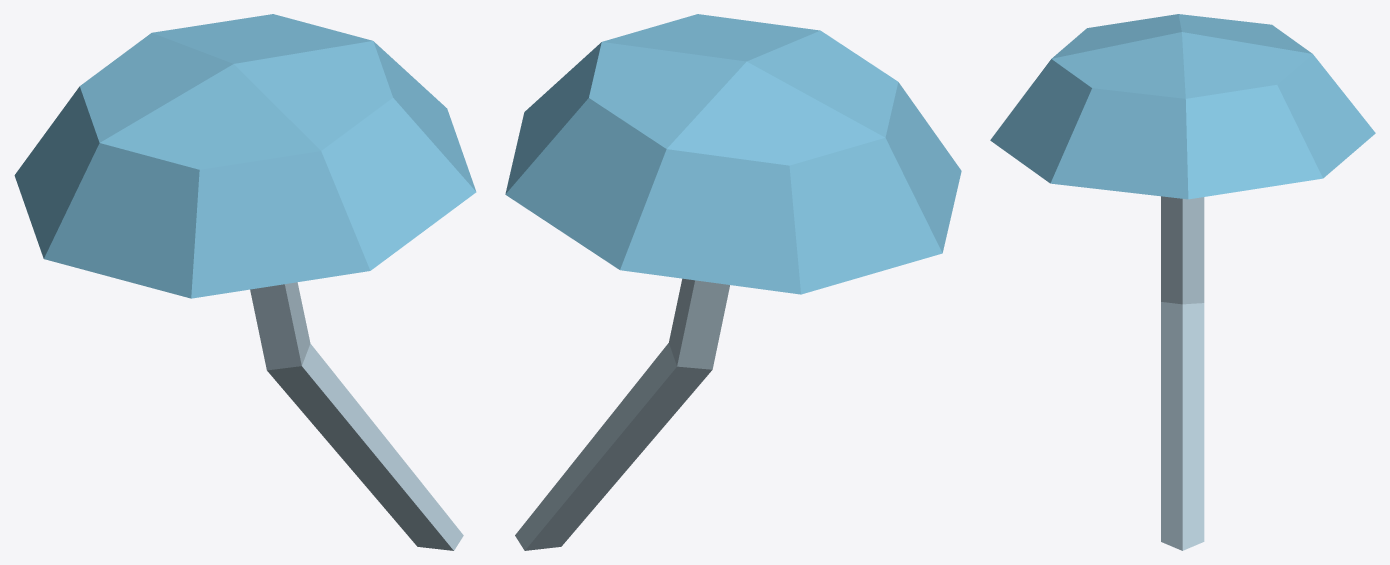
Rendered from Mushroom_a_01.fbx.
3 views of the same model, side by side, from view 1: azimuth 30°, elevation 25°; view 2: azimuth 150°, elevation 25°; view 3: azimuth 270°, elevation 25° (orthographic). The views are drawn at different scales.
Parts seen in each view (by area): view 1: Mushroom_a_01; view 2: Mushroom_a_01; view 3: Mushroom_a_01.
Boxes of the visible parts, <box> form: Mushroom_a_01: <box>14,14,476,550</box>; Mushroom_a_01: <box>505,14,961,550</box>; Mushroom_a_01: <box>990,14,1375,550</box>.
Size of the model in its own units: 26.38 by 31.47 by 25.72.
